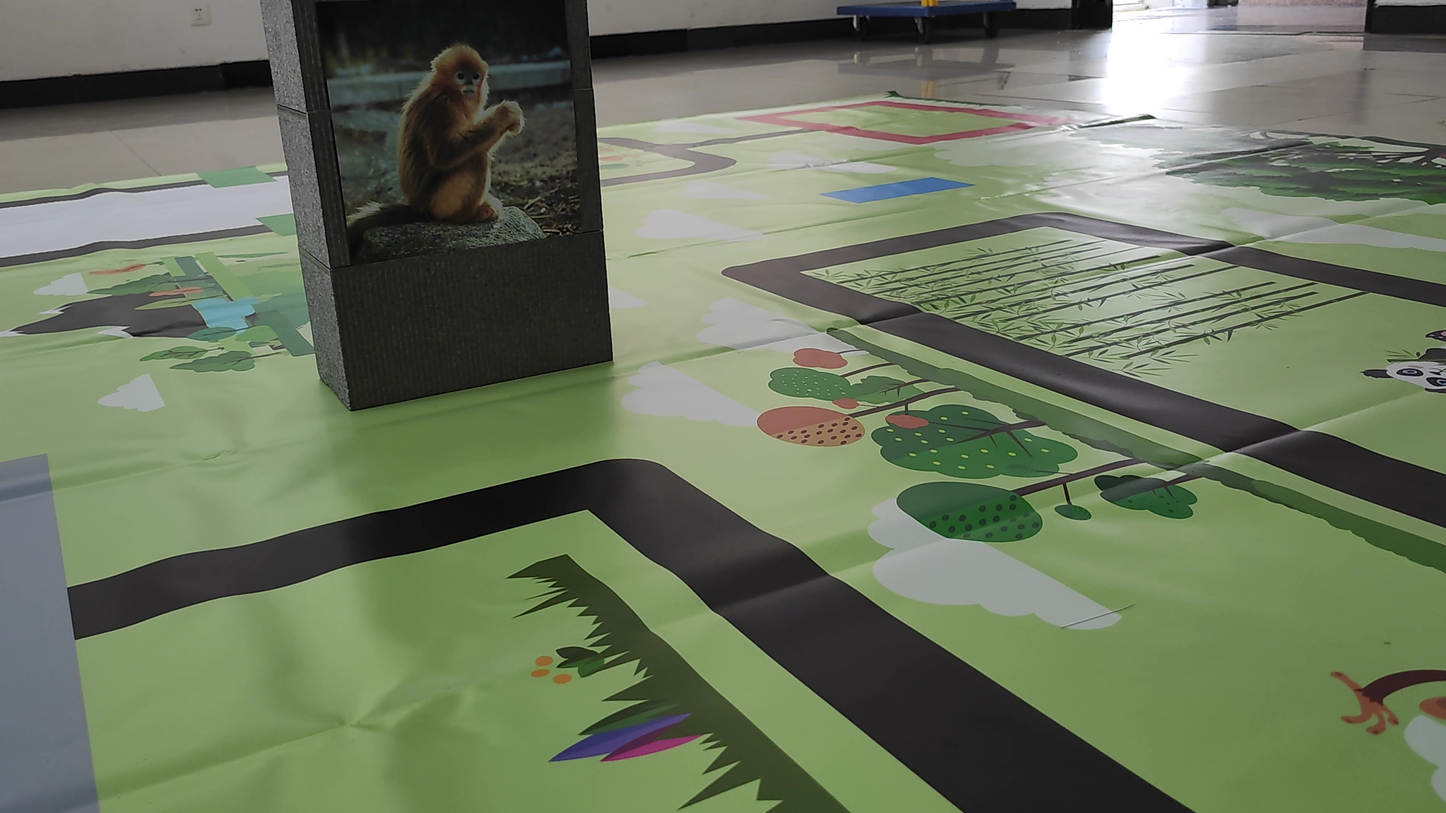monkey: (343, 31, 536, 256)
